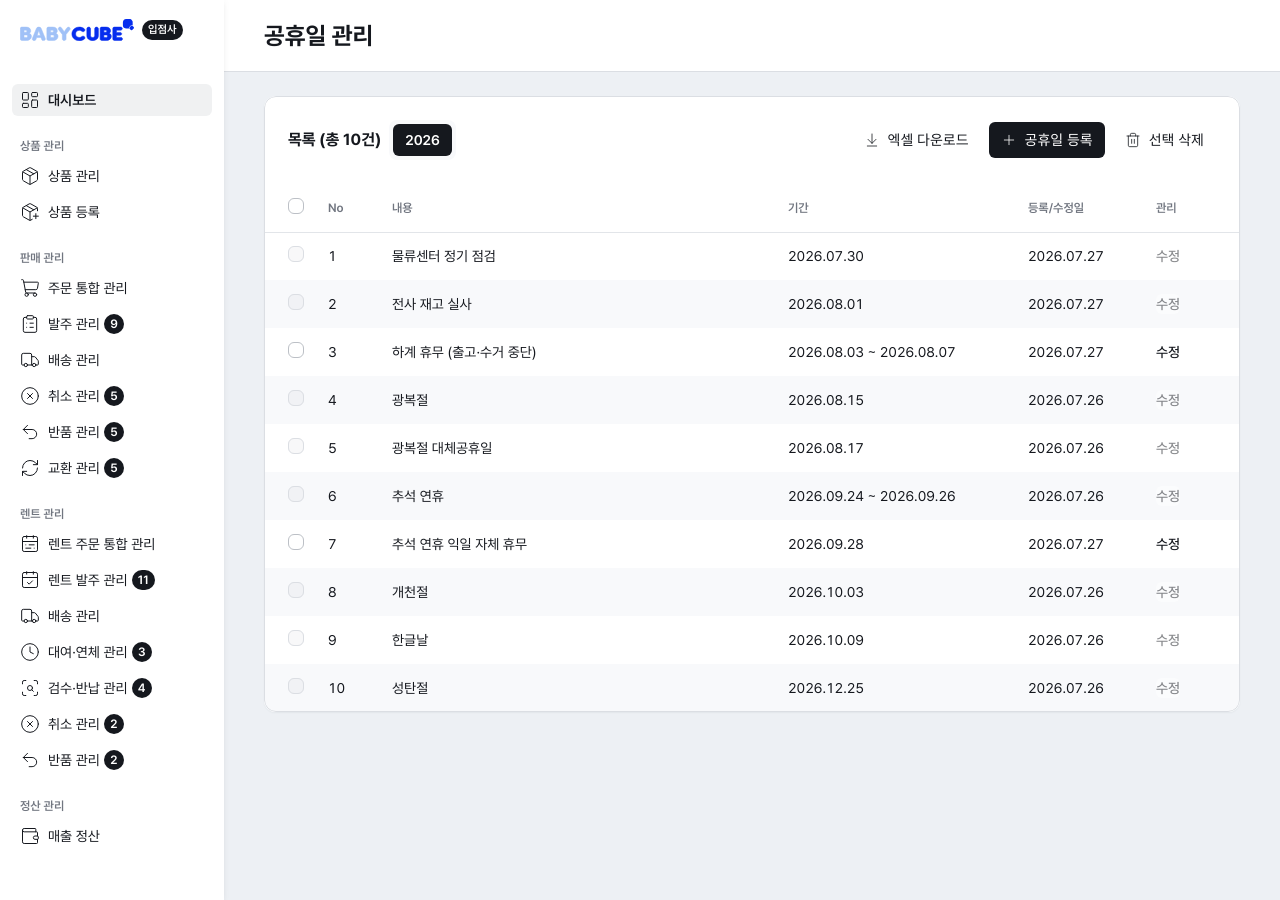
공휴일 관리 › [선택 삭제] — 고른 것이 없으면 막고, 고르면 확인 창 → 알림
The width and height of the screenshot is (1280, 900).
Step 1. Click the button "선택 삭제" → (1164, 140), box [1113, 122, 1216, 158]
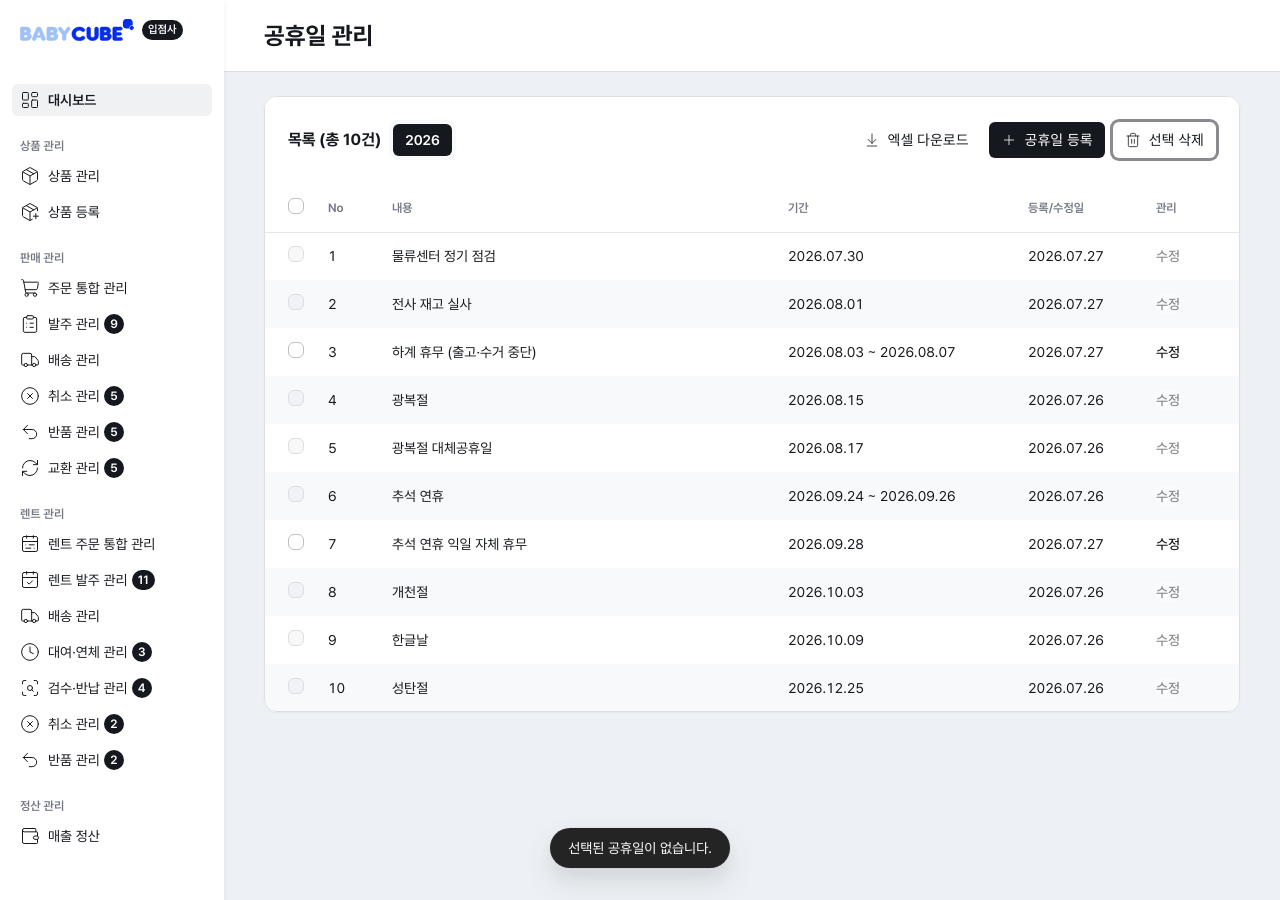
Expected: the text "선택된 공휴일이 없습니다." is shown, [550, 828, 730, 868]
Step 2. Click the checkbox named "자사 등록분 전체 선택" → (296, 206), box [288, 198, 304, 214]
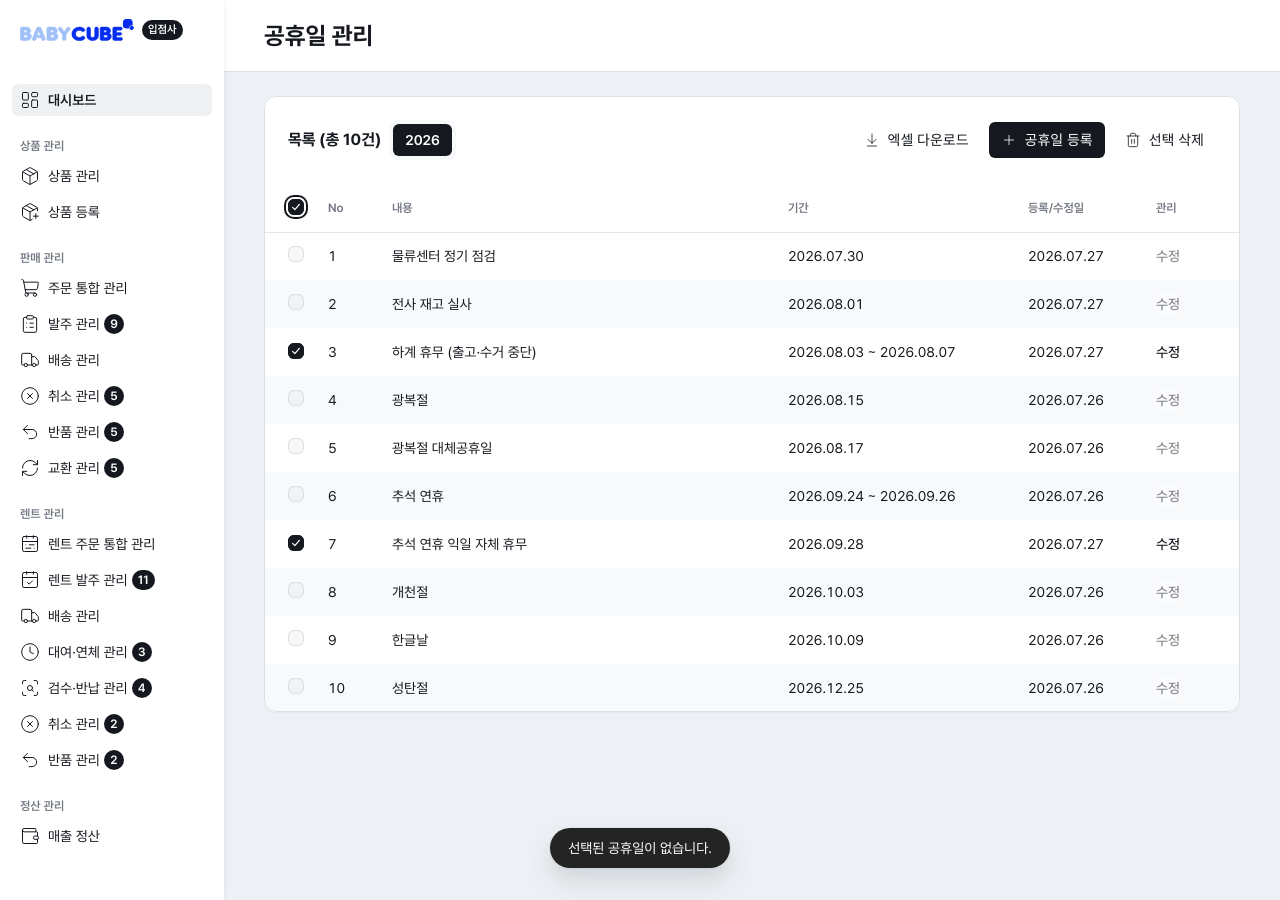
Step 3. Click the button "선택 삭제" → (1164, 140), box [1113, 122, 1216, 158]
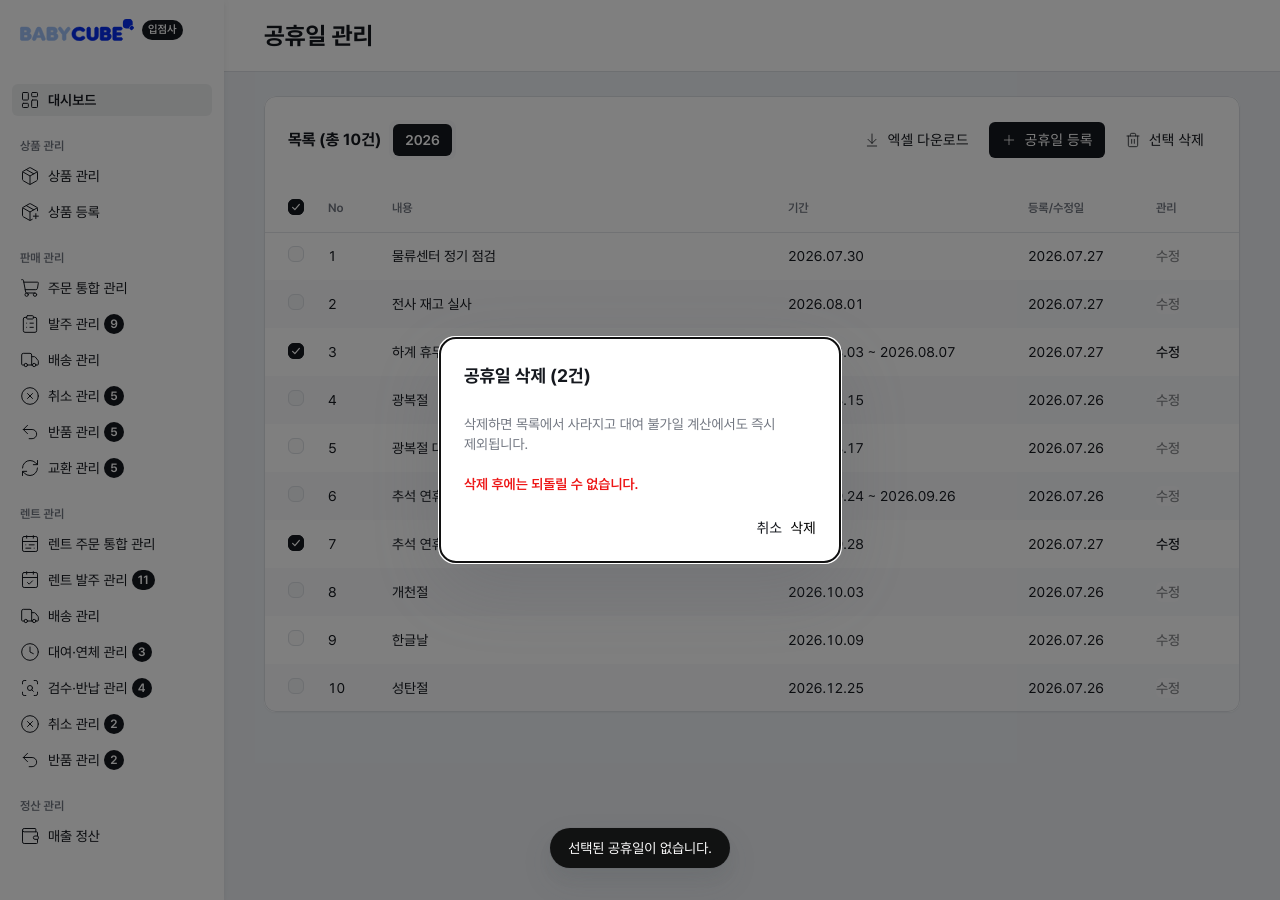
Step 4. Click the button "삭제" → (803, 528), box [790, 518, 816, 538]
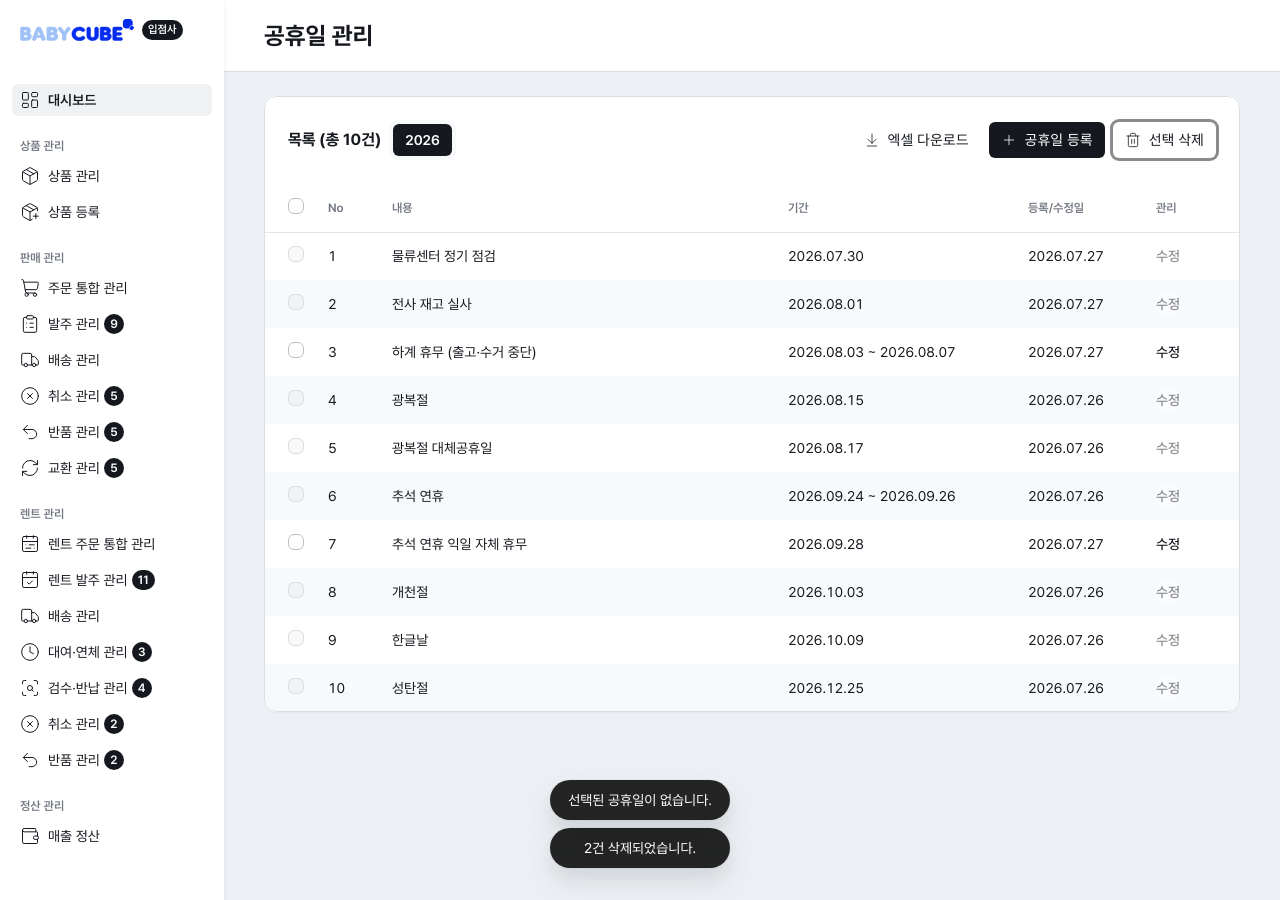
Expected: the text "2건 삭제되었습니다." is shown, [550, 828, 730, 868]
